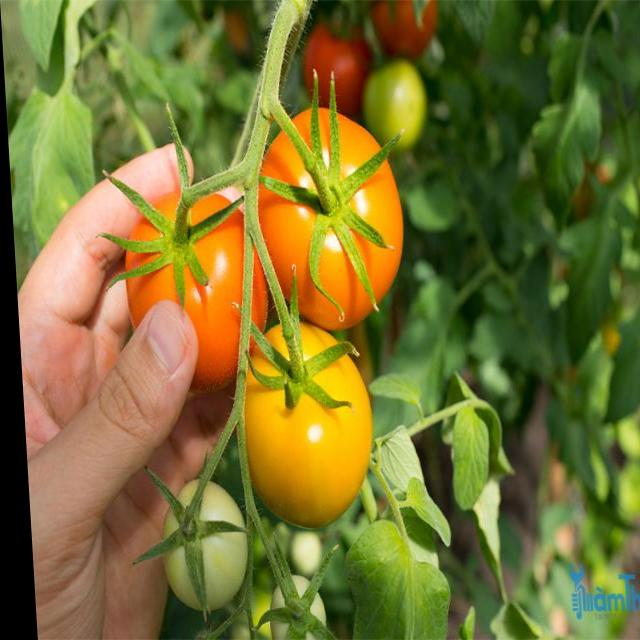sari: (99, 114, 437, 528)
